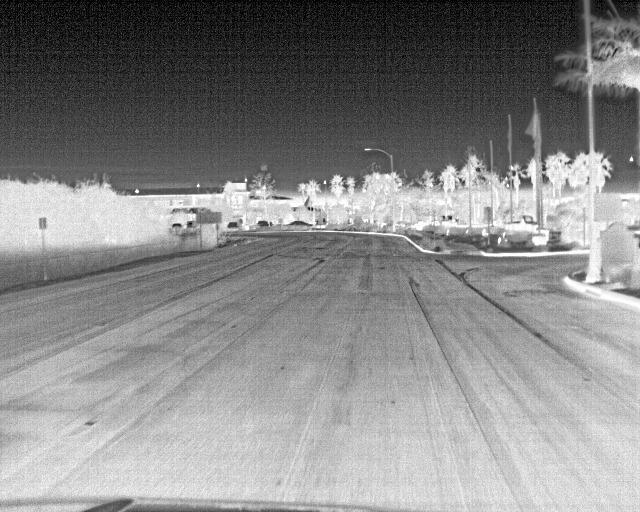car: (281, 220, 314, 232), (225, 220, 243, 233), (171, 221, 185, 236), (253, 219, 268, 232)
